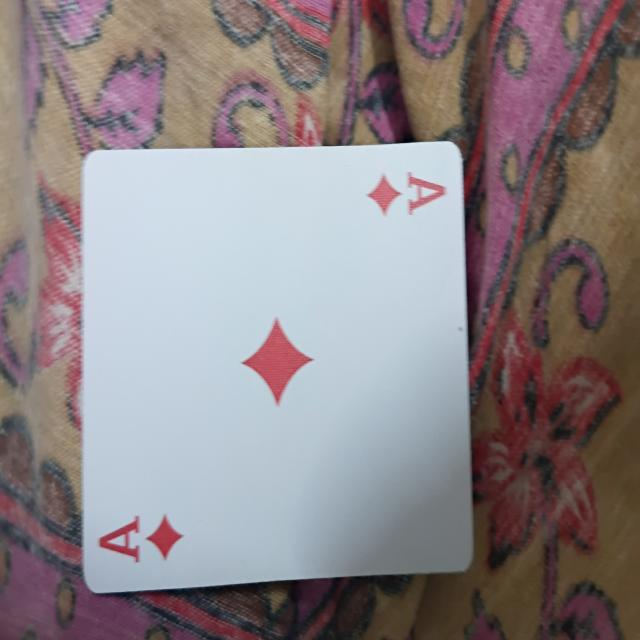AD: (81, 140, 466, 600)
